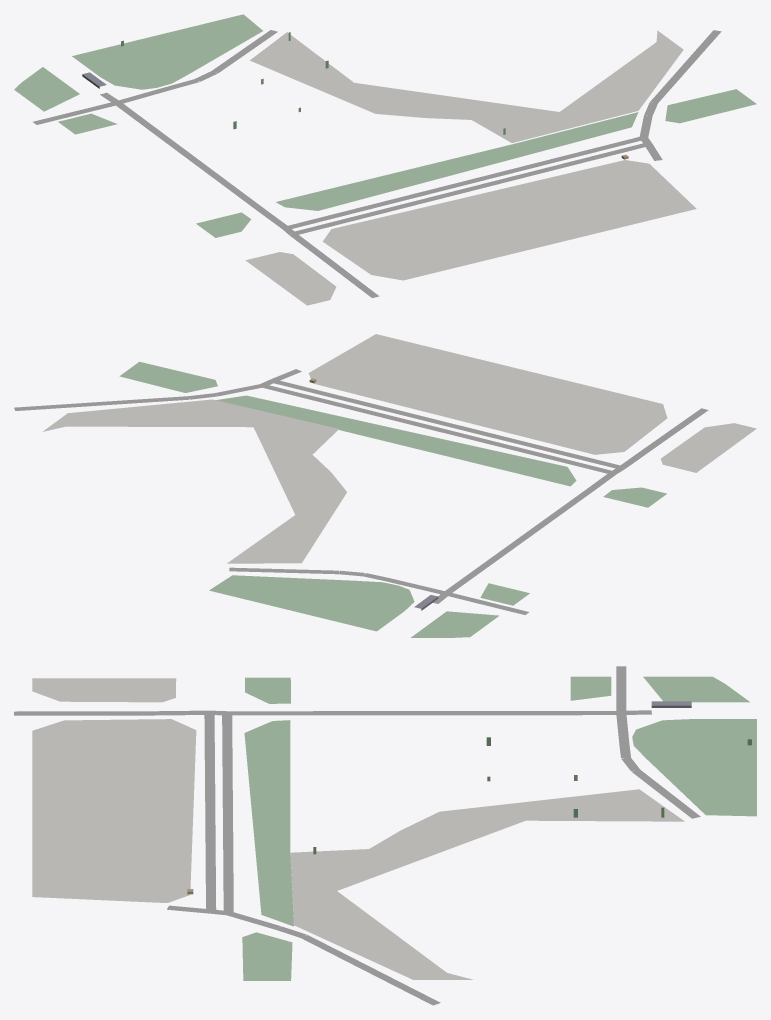
3 views of the same model, one above another, from view 1: azimuth 30°, elevation 25°; view 2: azimuth 150°, elevation 25°; view 3: azimuth 270°, elevation 25° (orthographic). The views are drawn at different scales.
Bounding box in the file's own units: 560 × 11.73 × 513.
